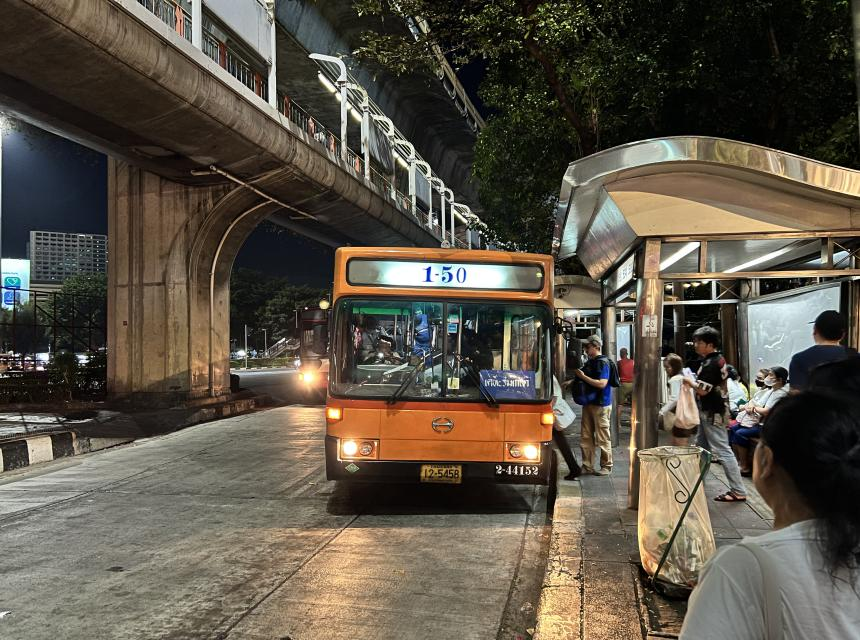BMTA-bus: (323, 247, 574, 514), (287, 301, 333, 408)
Bus Line Number: (417, 263, 473, 286)
Bus Side Number: (493, 462, 539, 481)
Destination Sign: (479, 369, 535, 400)
